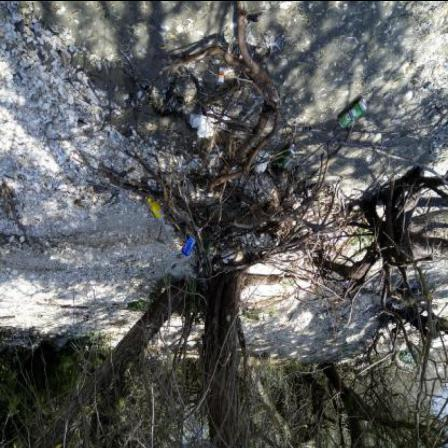Bottle: (149, 198, 175, 236)
Bottle cap: (148, 197, 153, 202)
Can: (340, 98, 369, 128), (279, 143, 299, 167), (182, 235, 197, 257)
Carton: (220, 67, 226, 83)
Plastic bag - wrapper: (191, 109, 232, 139), (254, 151, 272, 173)
